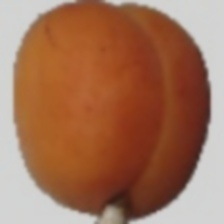apricot: (39, 35, 224, 218)
